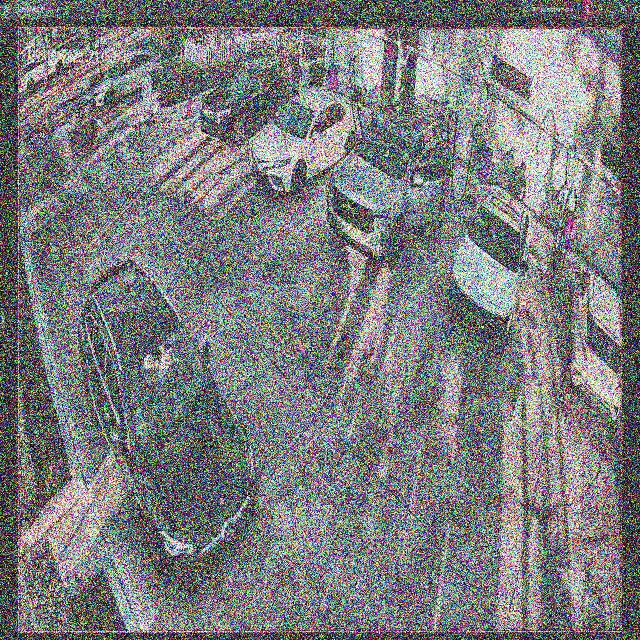Car: (74, 255, 258, 586), (330, 94, 450, 265), (452, 186, 530, 344), (249, 93, 361, 196), (200, 63, 285, 142)
